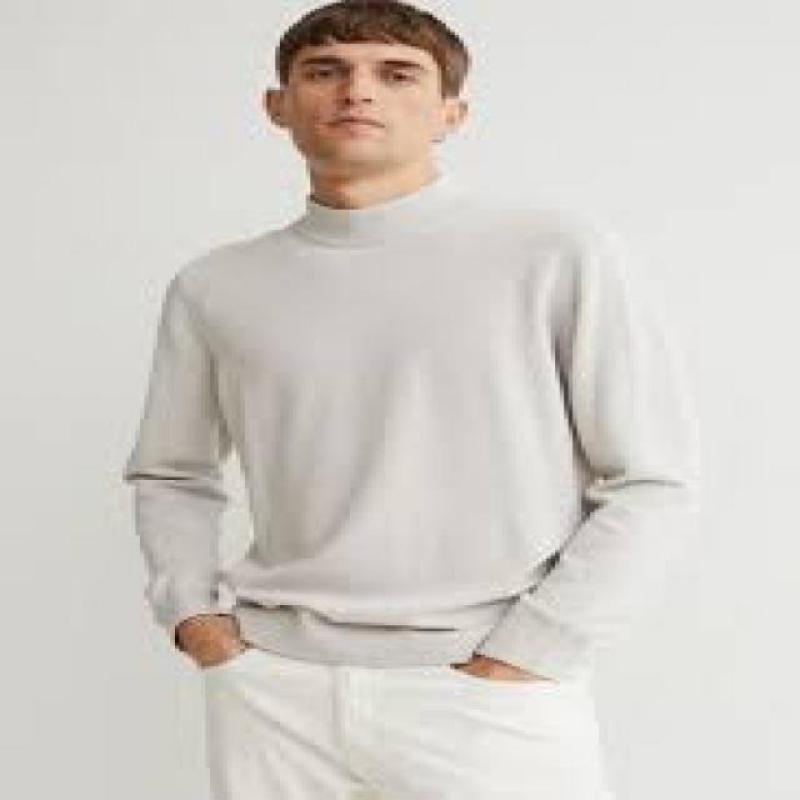sweater: (118, 167, 708, 684)
trousers: (199, 645, 601, 800)
